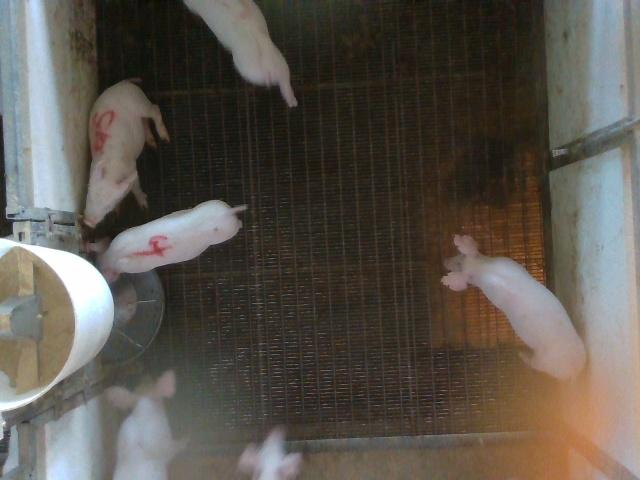pig-5: (90, 200, 246, 282), (84, 80, 169, 227)
